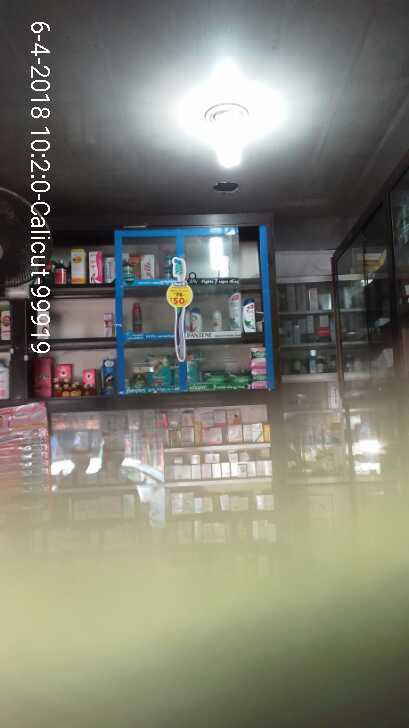vicks: (162, 255, 174, 278)
